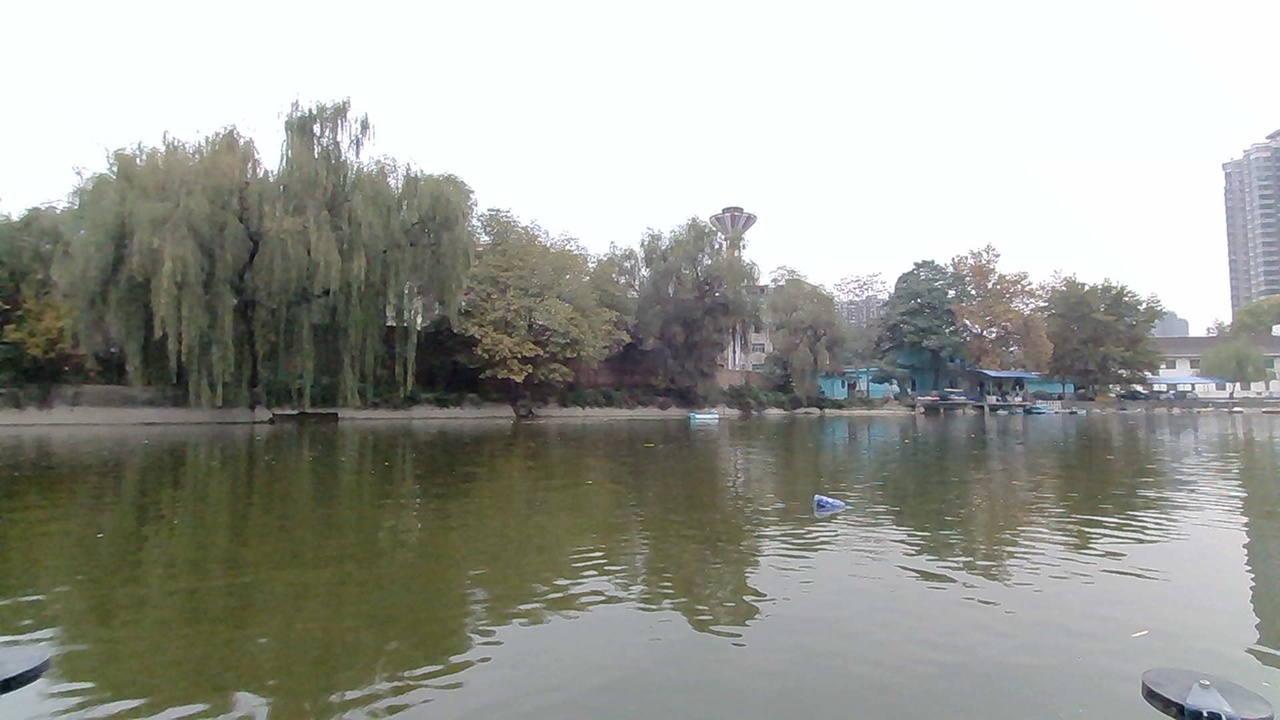bottle: (808, 488, 853, 522)
